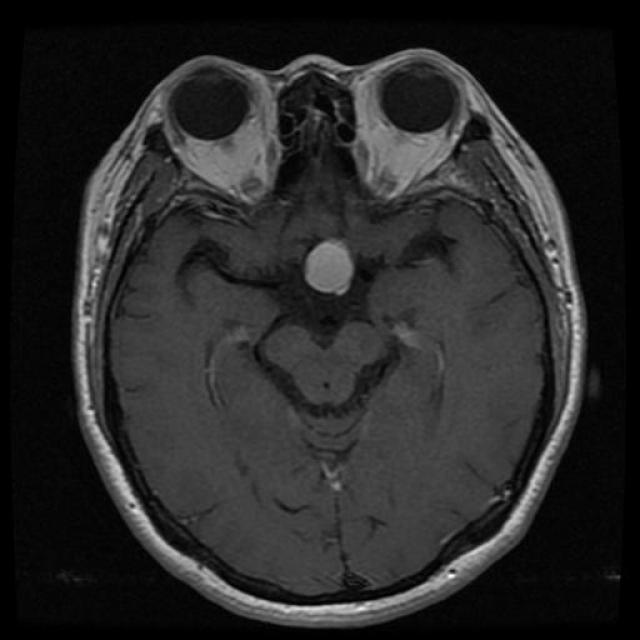Brain-Tumor: (290, 224, 374, 318)
eye: (148, 38, 314, 221), (344, 33, 479, 224)
